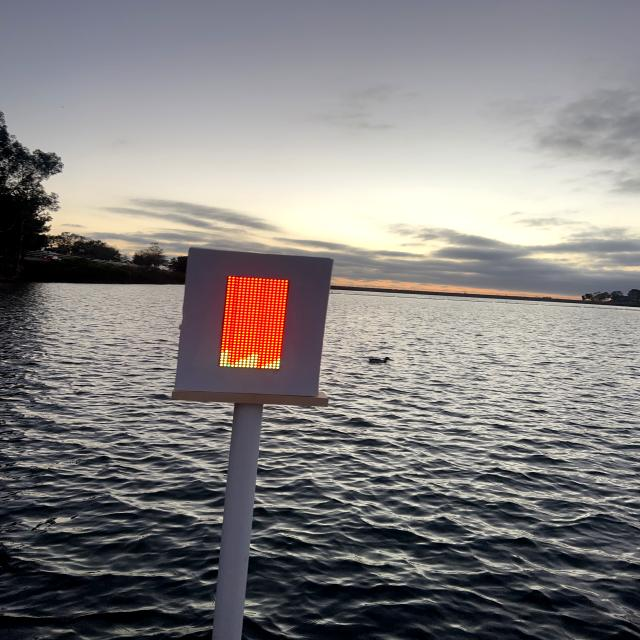led: (193, 249, 310, 393)
